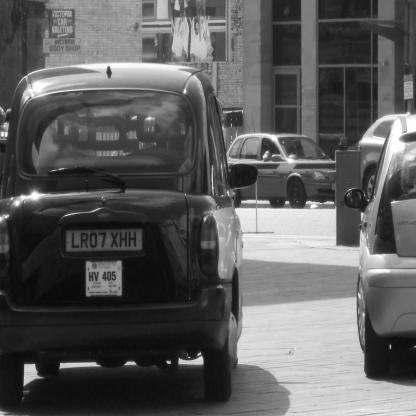car: (1, 51, 247, 403), (214, 129, 342, 205)
